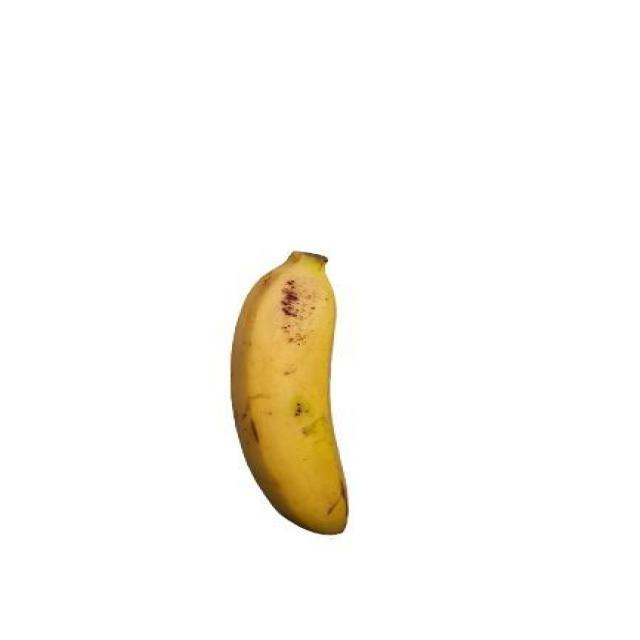Banana: (222, 248, 361, 541)
